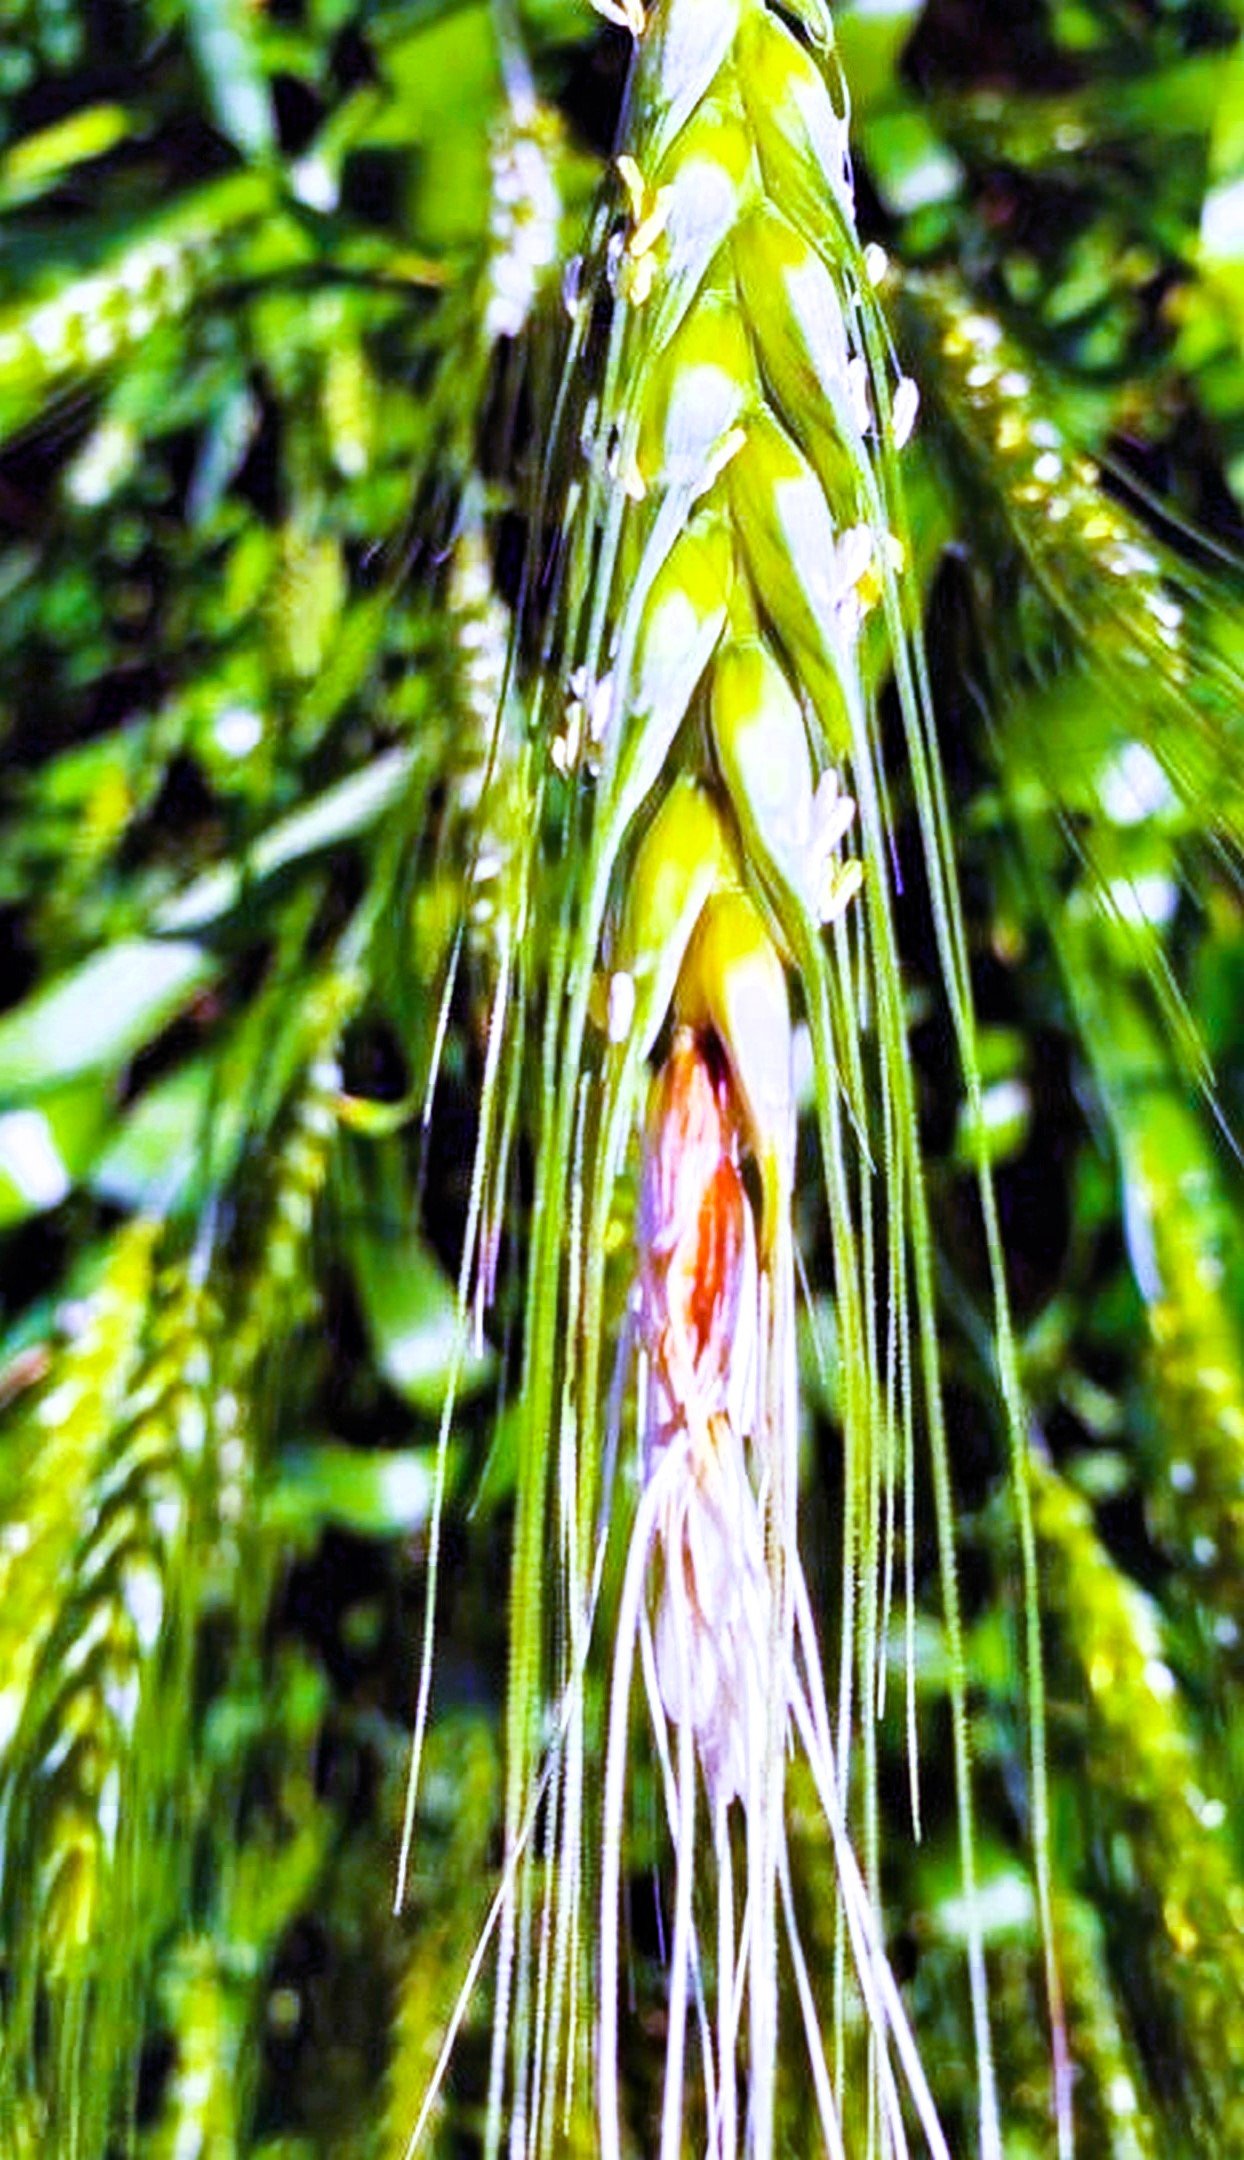Wheat scab: (439, 1, 990, 1820)
